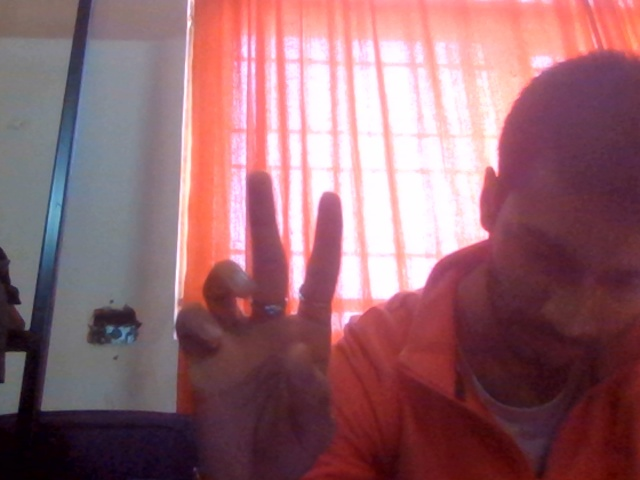V: (161, 162, 387, 480)
